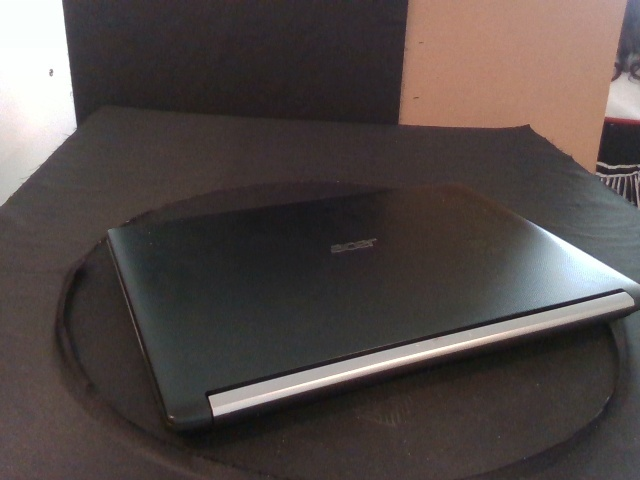laptop: (107, 181, 640, 440)
